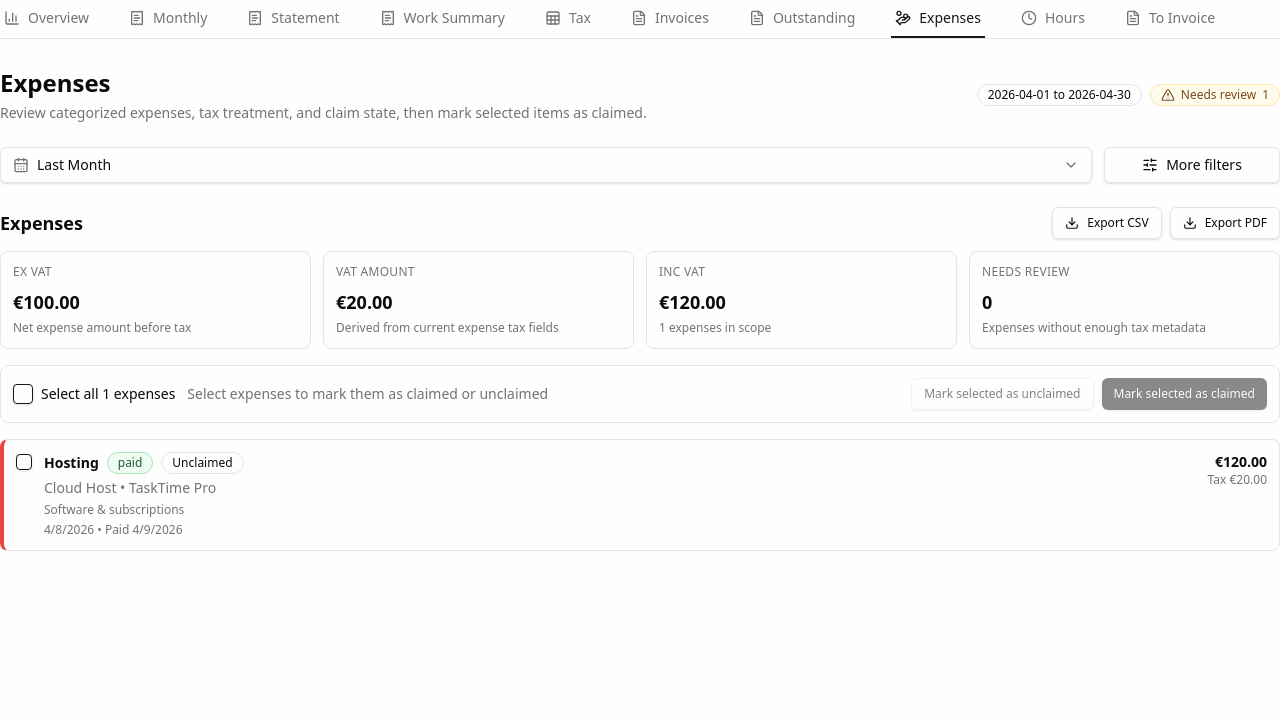
it: Reports › uses the shared native date inputs in the claim period modal
Click the checkbox named "Select Hosting" at {"x": 24, "y": 462}, box [16, 454, 32, 470]
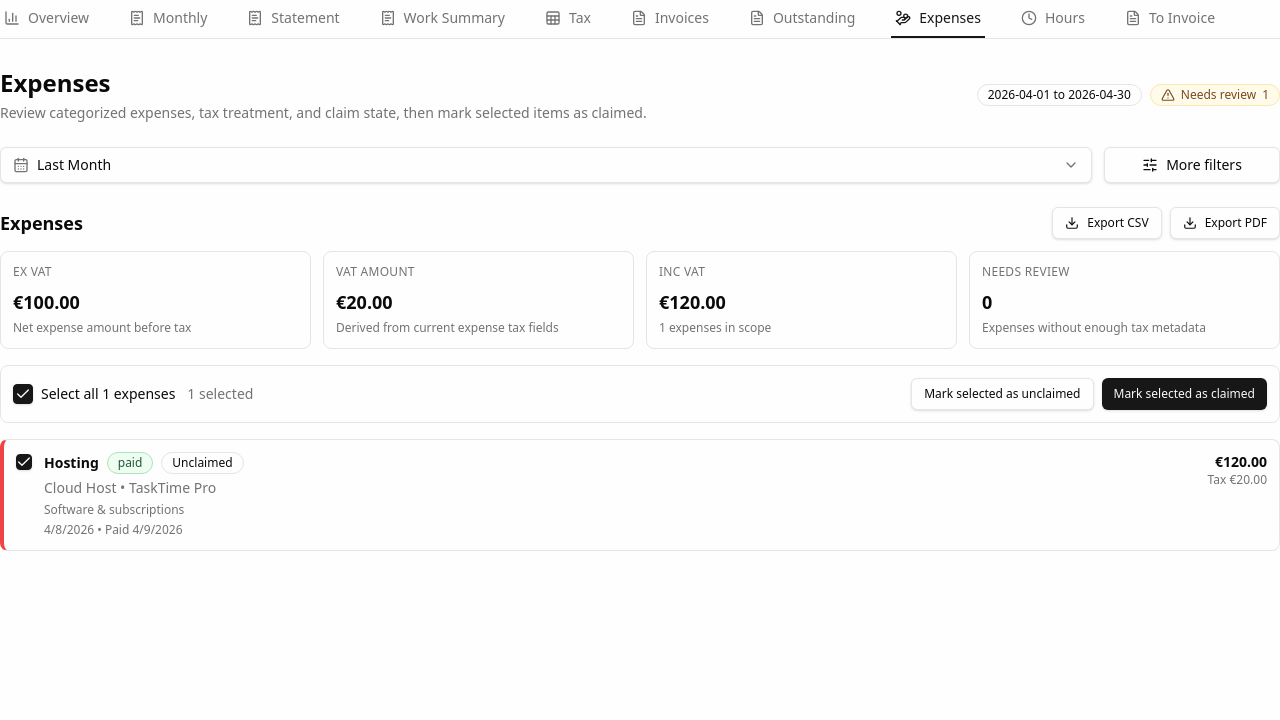
Click the button "Mark selected as claimed" at {"x": 1184, "y": 394}, box [1102, 378, 1267, 410]
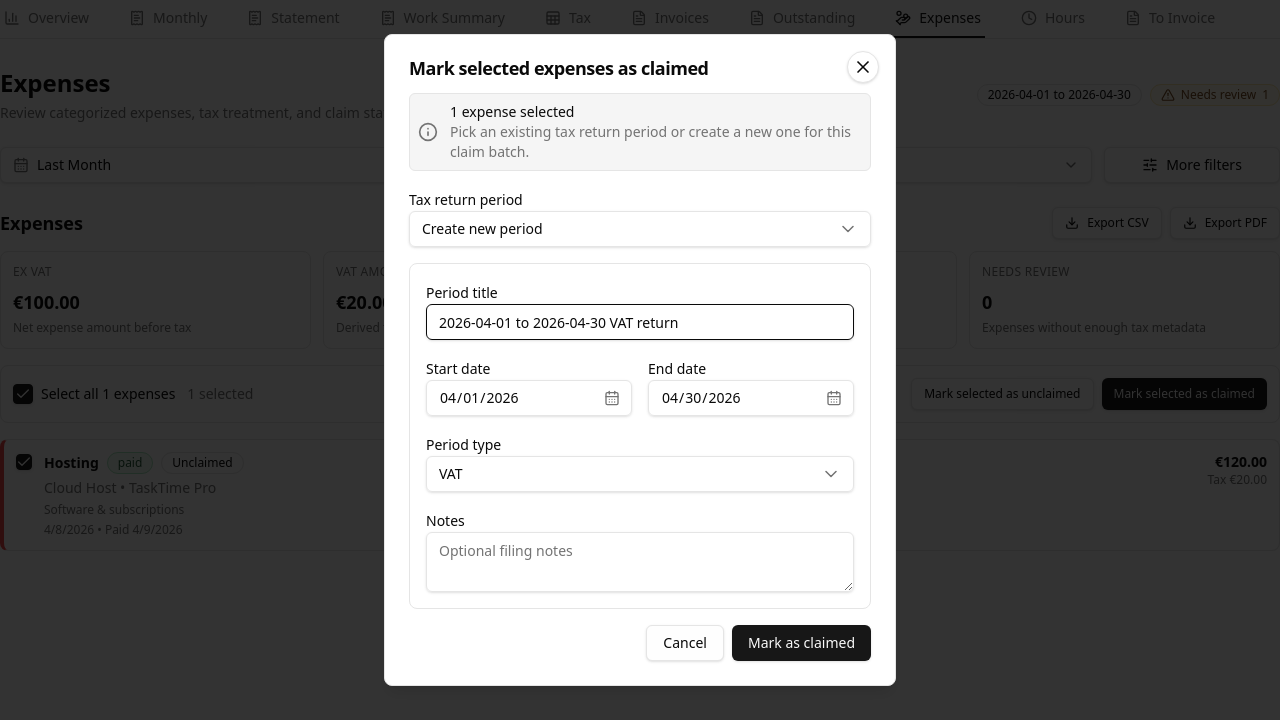
Check: the number of buttons named "Open date picker" is 2, box [604, 380, 620, 416]; [826, 380, 842, 416]
